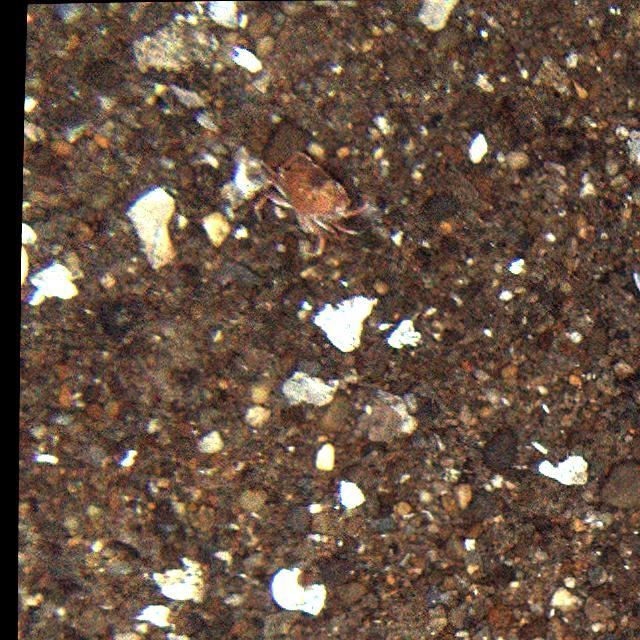crab: (259, 150, 366, 258)
